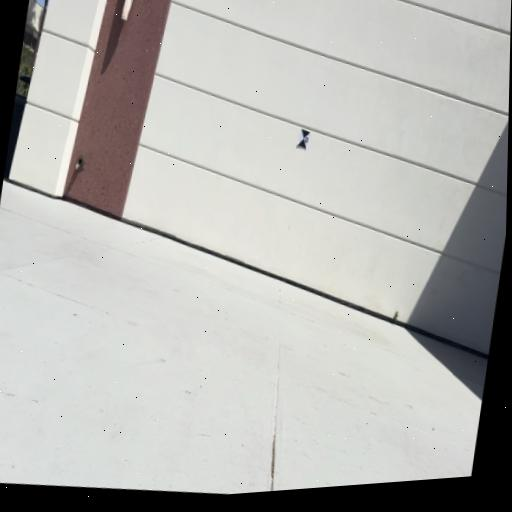target0: (297, 128, 311, 150)
